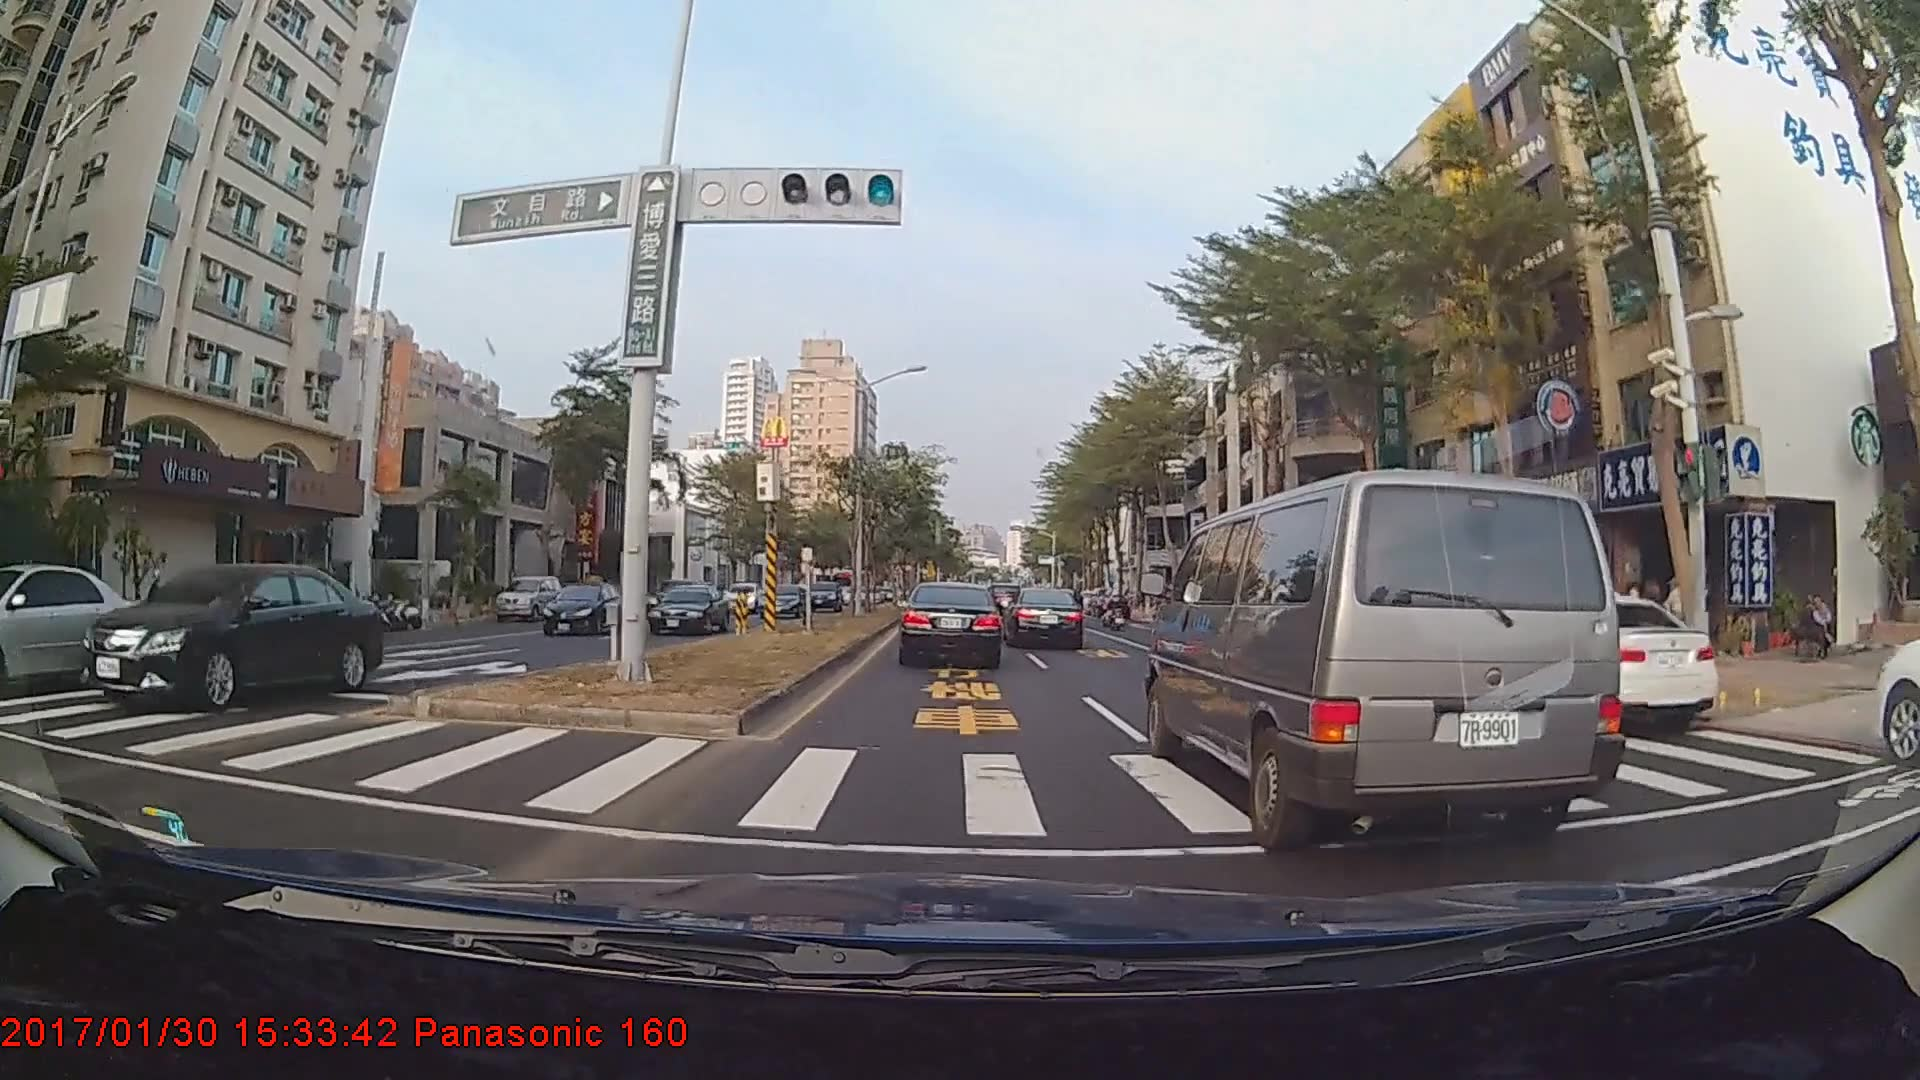vehicle: (1153, 462, 1629, 843), (74, 560, 382, 711), (1412, 564, 1615, 721), (0, 560, 135, 695), (899, 583, 1004, 667), (1004, 587, 1084, 651), (539, 582, 625, 636), (645, 582, 727, 633), (493, 574, 564, 621), (758, 583, 806, 617), (803, 578, 841, 611)
